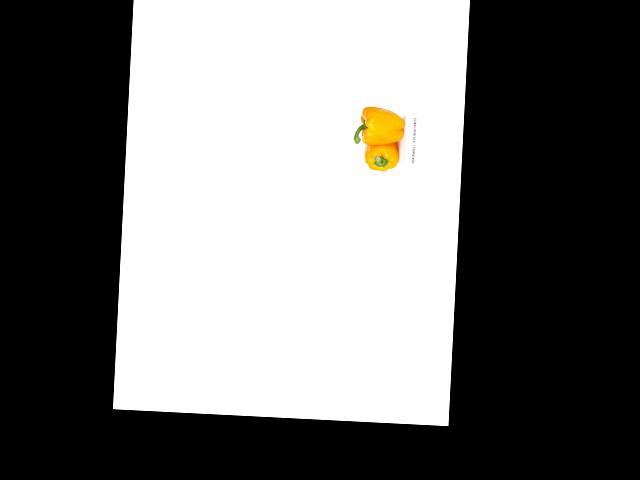bell_pepper: (361, 139, 401, 172)
